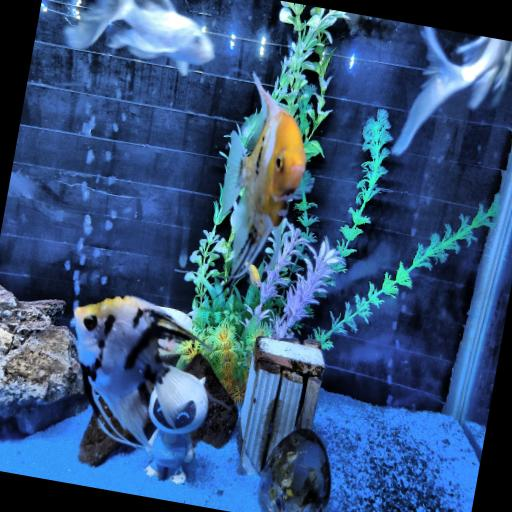Fish: (74, 296, 202, 447), (222, 74, 305, 279), (392, 26, 511, 154), (65, 0, 213, 75), (245, 263, 260, 287)
